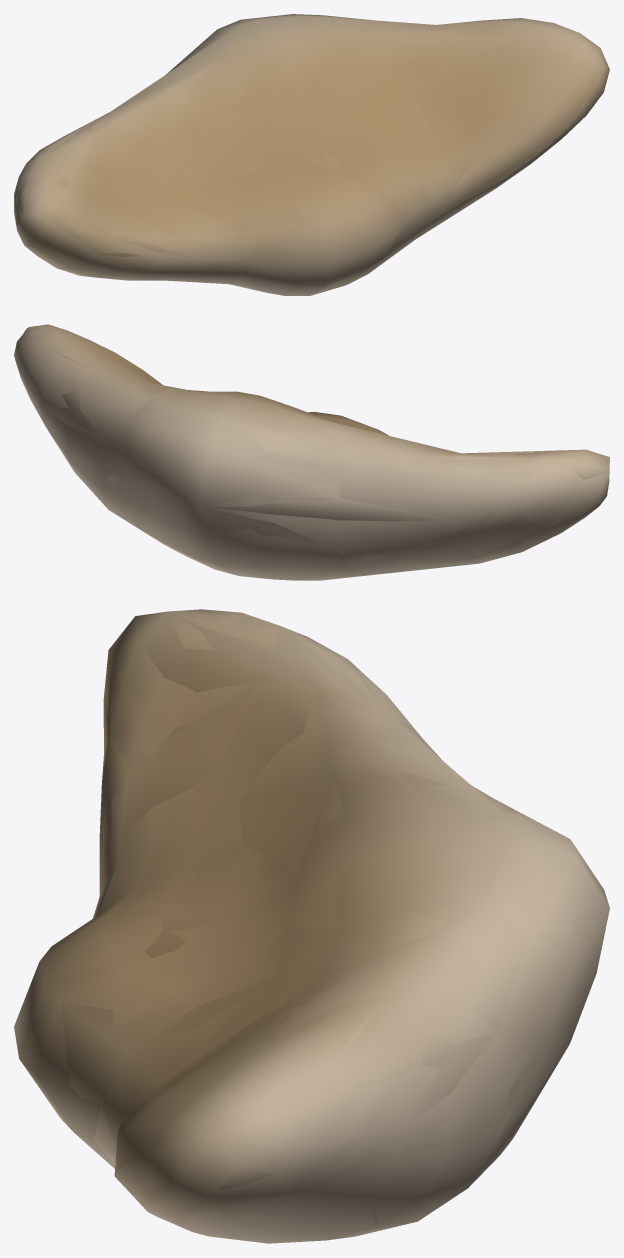
File: BR sesamoidea distale.fbx
The picture shows the model from 3 angles, top to bottom: view 1: azimuth 30°, elevation 25°; view 2: azimuth 150°, elevation 25°; view 3: azimuth 270°, elevation 25°; orthographic projection. The views are drawn at different scales.
Visible parts, largest first — view 1: BR sesamoidea distale, BR sesamoidea distale low; view 2: BR sesamoidea distale, BR sesamoidea distale low; view 3: BR sesamoidea distale, BR sesamoidea distale low.
Boxes of the visible parts, bbox=[...] form: BR sesamoidea distale: bbox=[14, 14, 609, 295]; BR sesamoidea distale low: bbox=[15, 15, 609, 295]; BR sesamoidea distale: bbox=[14, 324, 609, 580]; BR sesamoidea distale low: bbox=[43, 340, 608, 580]; BR sesamoidea distale: bbox=[14, 609, 609, 1243]; BR sesamoidea distale low: bbox=[14, 609, 608, 1240].
Size of the model in its own units: 4.2 by 1.36 by 1.95.
Materials: 1 (1 with a texture image).
